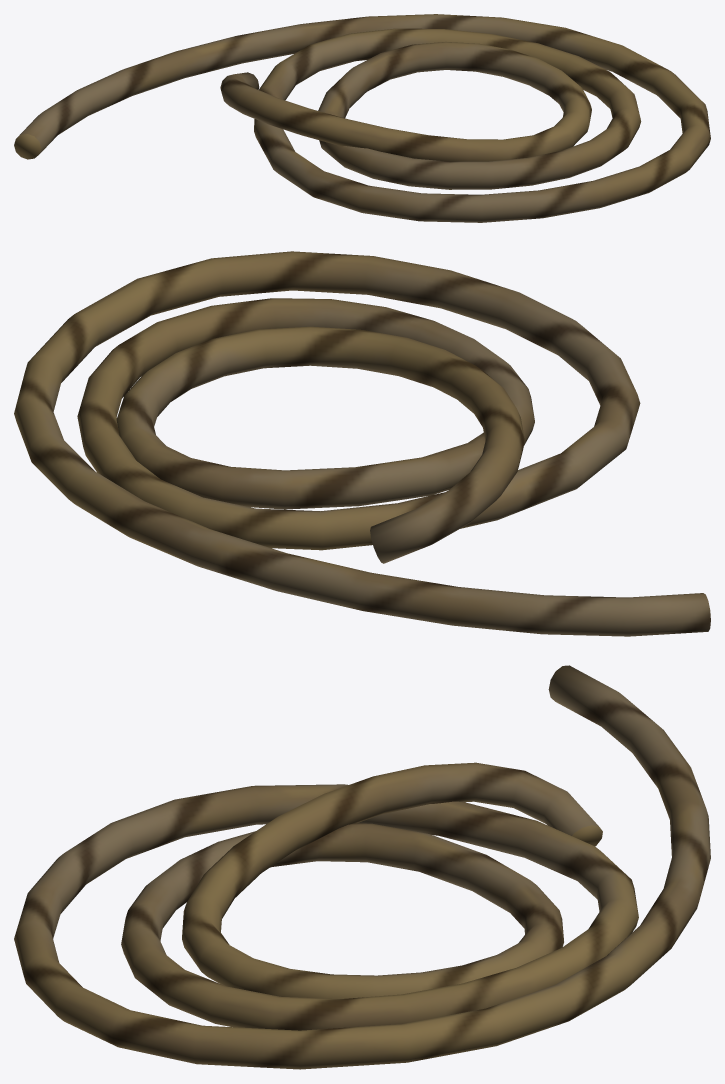
The model's file is rope_3.glb.
3 views of the same model, one above another, from view 1: azimuth 30°, elevation 25°; view 2: azimuth 150°, elevation 25°; view 3: azimuth 270°, elevation 25° (orthographic). The views are drawn at different scales.
Parts seen in each view (by area): view 1: Rope_3; view 2: Rope_3; view 3: Rope_3.
Boxes of the visible parts, box(x1,y1,x2,y2) form: Rope_3: box(14, 14, 710, 222); Rope_3: box(14, 251, 710, 636); Rope_3: box(14, 665, 710, 1069).
Size of the model in its own units: 1.23 by 0.1018 by 0.9508.
1 material, 1 textured.
